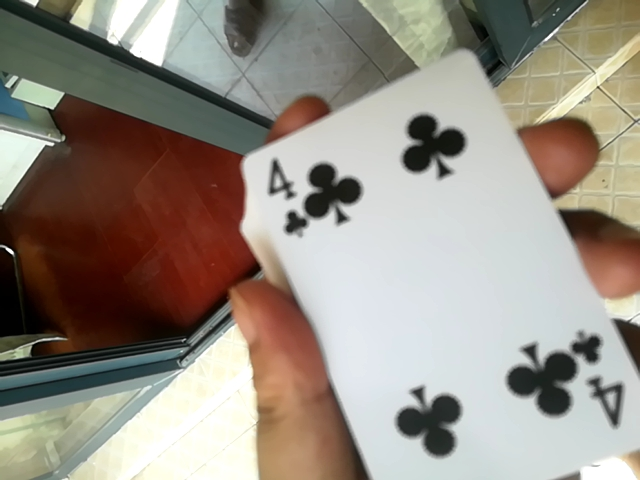mh 4: (218, 14, 639, 479)
